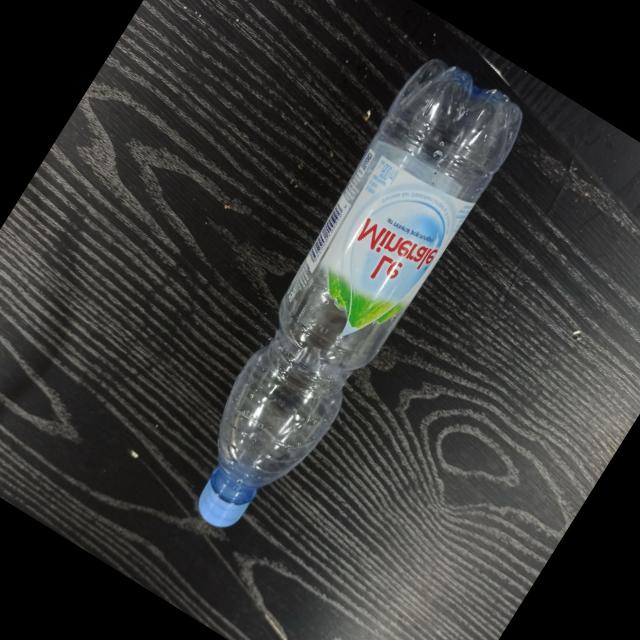BotolPlastik: (149, 44, 535, 556)
